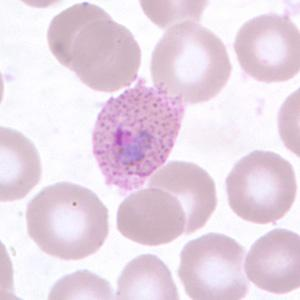Infected: (93, 83, 187, 194)
Uninfected: (25, 183, 109, 263), (152, 22, 232, 103), (226, 146, 296, 221), (68, 21, 142, 90), (46, 1, 116, 70), (148, 163, 215, 232), (236, 13, 300, 84), (178, 235, 246, 300), (116, 186, 185, 242), (245, 229, 300, 294), (0, 128, 44, 198), (119, 254, 180, 300)
